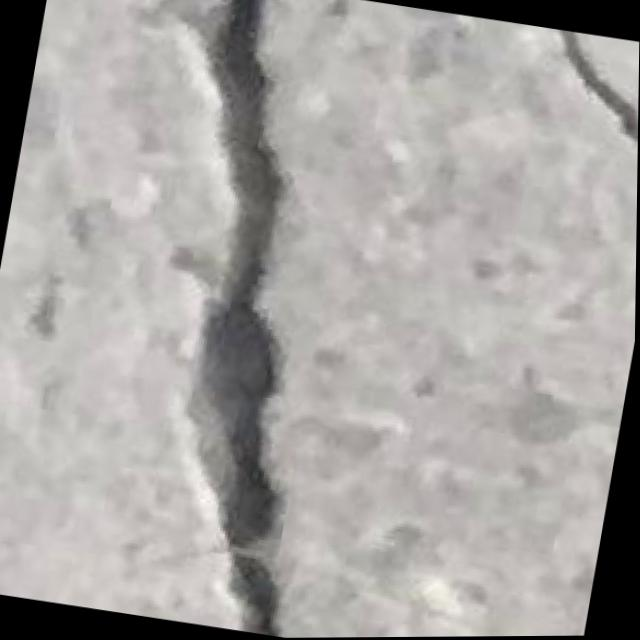Crack: (33, 0, 407, 640), (523, 30, 640, 170)
